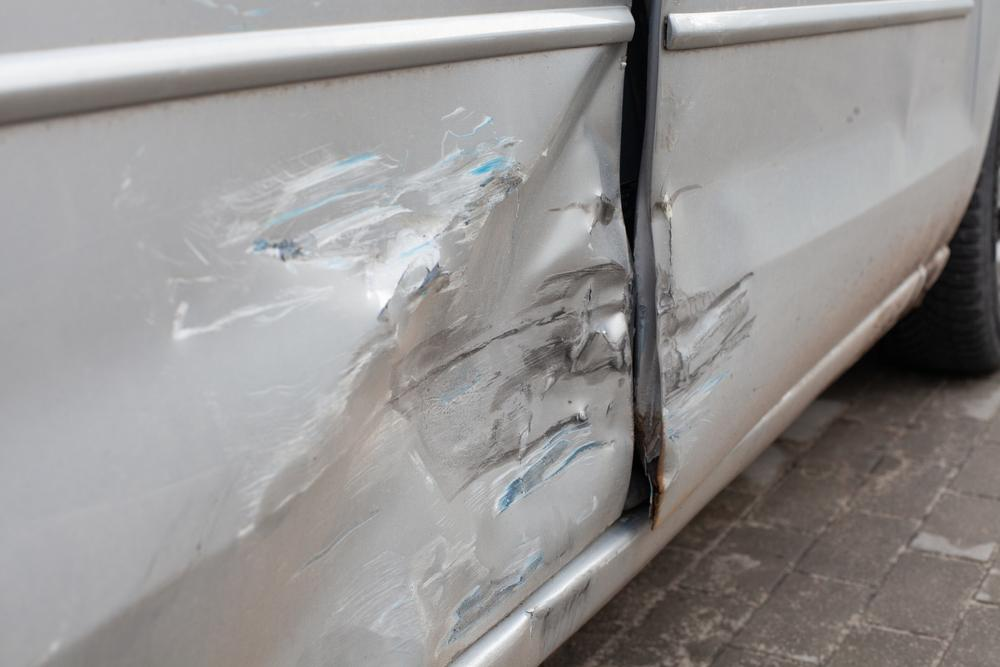dent: (256, 43, 628, 654), (651, 152, 760, 488)
scratch: (215, 106, 526, 309)
